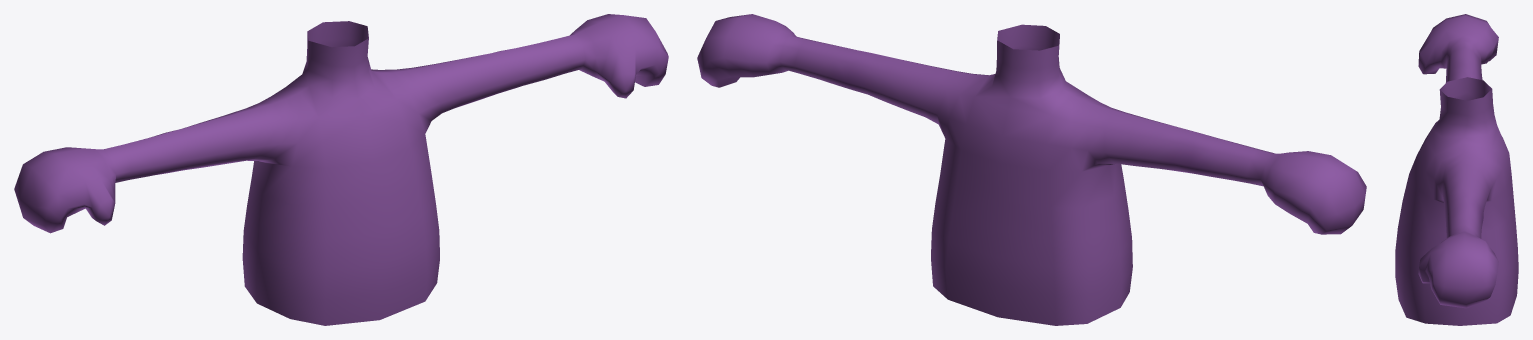
Rendered from Body_Purple_Top_1.fbx.
3 views of the same model, side by side, from view 1: azimuth 30°, elevation 25°; view 2: azimuth 150°, elevation 25°; view 3: azimuth 270°, elevation 25° (orthographic). The views are drawn at different scales.
Parts seen in each view (by area): view 1: Body_Purple_Top_1; view 2: Body_Purple_Top_1; view 3: Body_Purple_Top_1.
Part boxes in pixels (bbox=[...]): Body_Purple_Top_1: bbox=[14, 14, 668, 325]; Body_Purple_Top_1: bbox=[697, 14, 1366, 325]; Body_Purple_Top_1: bbox=[1395, 14, 1518, 325].
Bounding box in the file's own units: 130 × 49.84 × 26.46.
